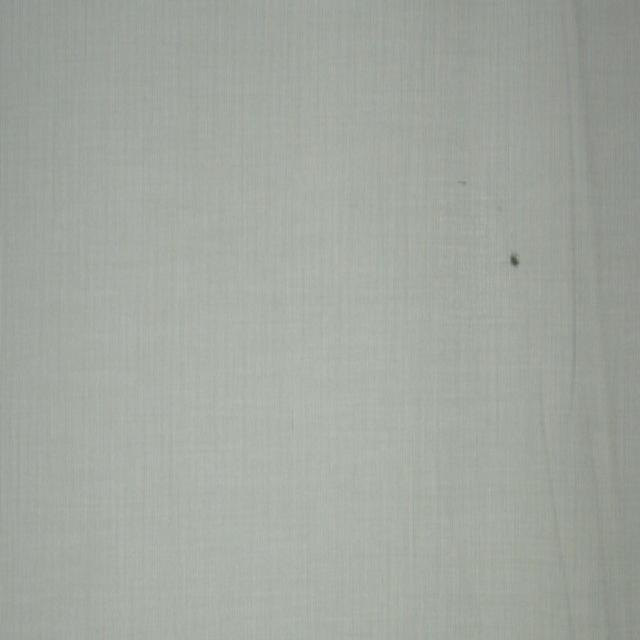dirty: (510, 252, 520, 268), (458, 181, 467, 186)
